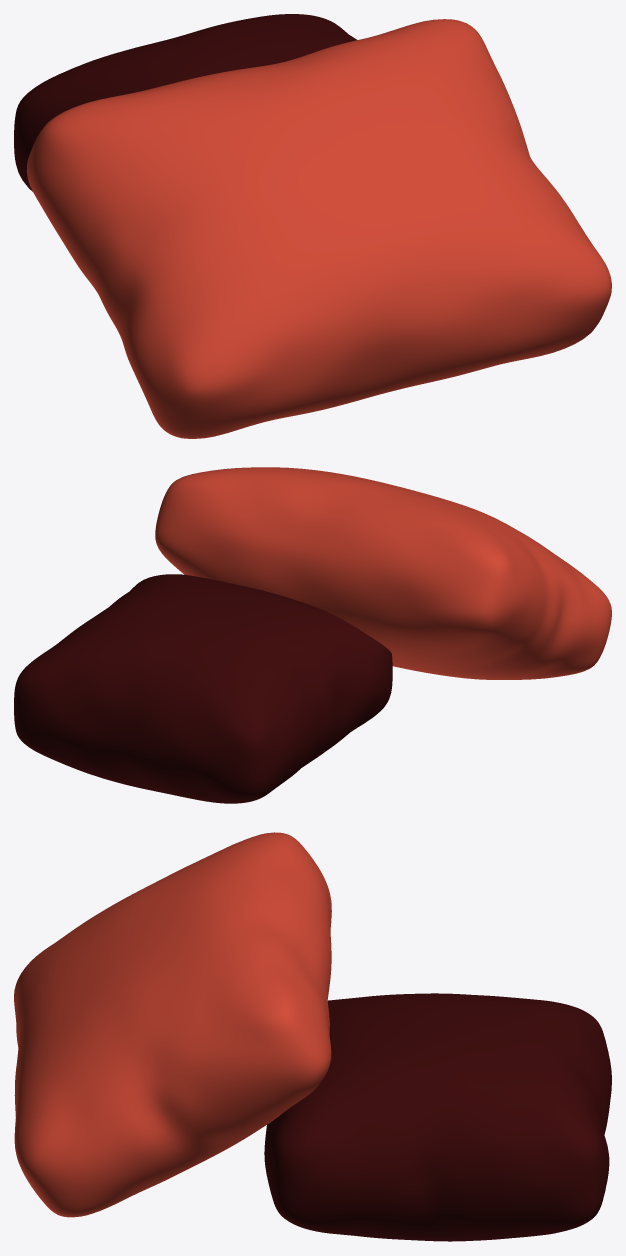
File: floor_pilows.obj
3 views of the same model, one above another, from view 1: azimuth 30°, elevation 25°; view 2: azimuth 150°, elevation 25°; view 3: azimuth 270°, elevation 25° (orthographic). The views are drawn at different scales.
Parts seen in each view (by area): view 1: floor_pilows; view 2: floor_pilows; view 3: floor_pilows.
Part boxes in pixels (x1,y1,x2,y2): floor_pilows: (14, 14, 611, 438); floor_pilows: (14, 467, 611, 803); floor_pilows: (14, 832, 611, 1241).
Size of the model in its own units: 0.6456 by 0.38 by 0.7733.
